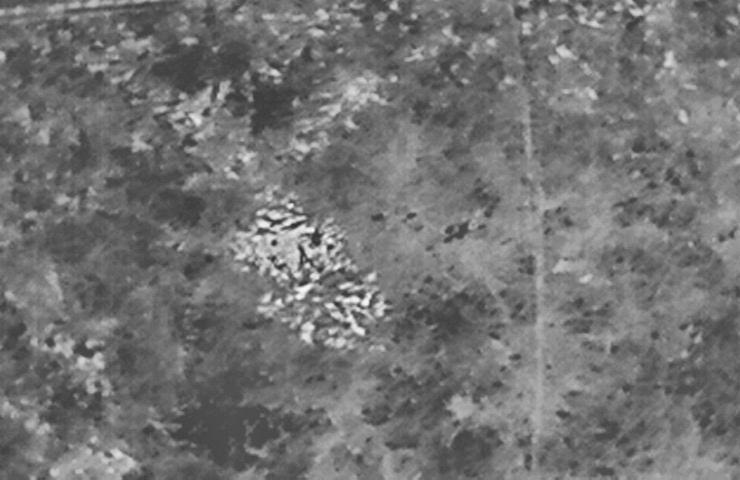landmines: (229, 191, 358, 286)
